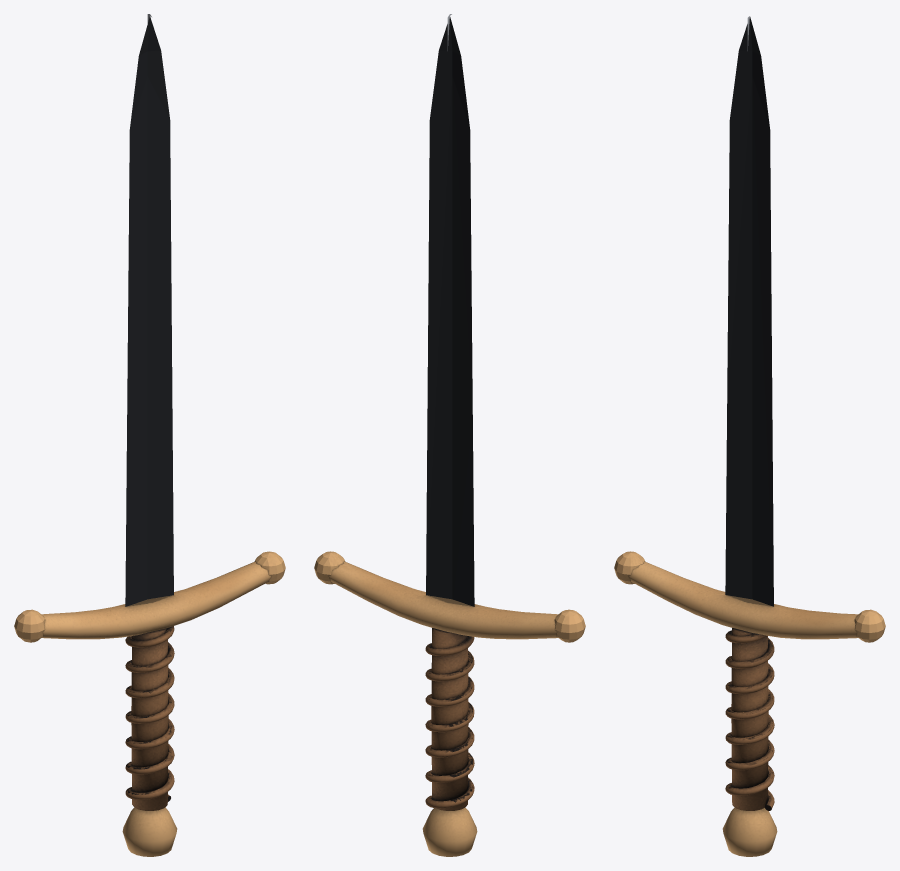
The model's file is arma_espada_curta_refinada.glb.
3 renders of one model, left to right at view 1: azimuth 30°, elevation 25°; view 2: azimuth 150°, elevation 25°; view 3: azimuth 330°, elevation 25°, orthographic.
Parts seen in each view (by area): view 1: arma_espada_curta_refinada; view 2: arma_espada_curta_refinada; view 3: arma_espada_curta_refinada.
Boxes of the visible parts, <box> form: arma_espada_curta_refinada: <box>14,14,285,856</box>; arma_espada_curta_refinada: <box>314,14,585,856</box>; arma_espada_curta_refinada: <box>614,16,885,856</box>.
Bounding box in the file's own units: 0.2912 × 0.8732 × 0.052.
Materials: 1 (1 with a texture image).
